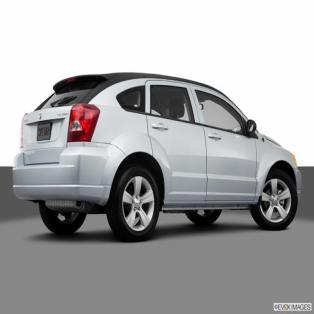Auto: (12, 71, 301, 241)
